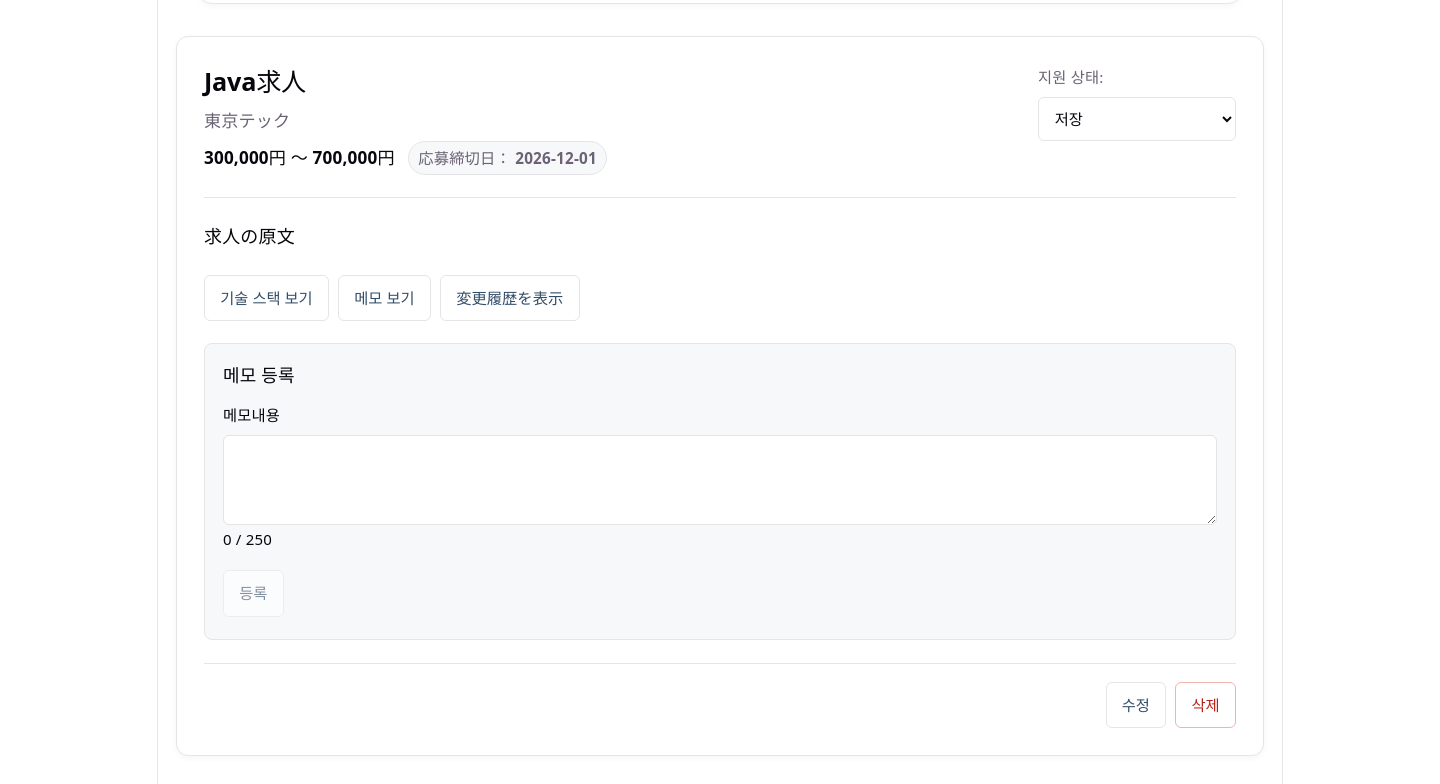
更新完了後の一覧再取得 › 削除待機中に検索を変えても完了後の一覧を元の条件へ戻さない
(page scrolled)
Expected: the heading "Java求人" is shown, [204,64,306,98]
Click the button "삭제" at (1206, 705), box [1175,682,1236,728]
(page scrolled)
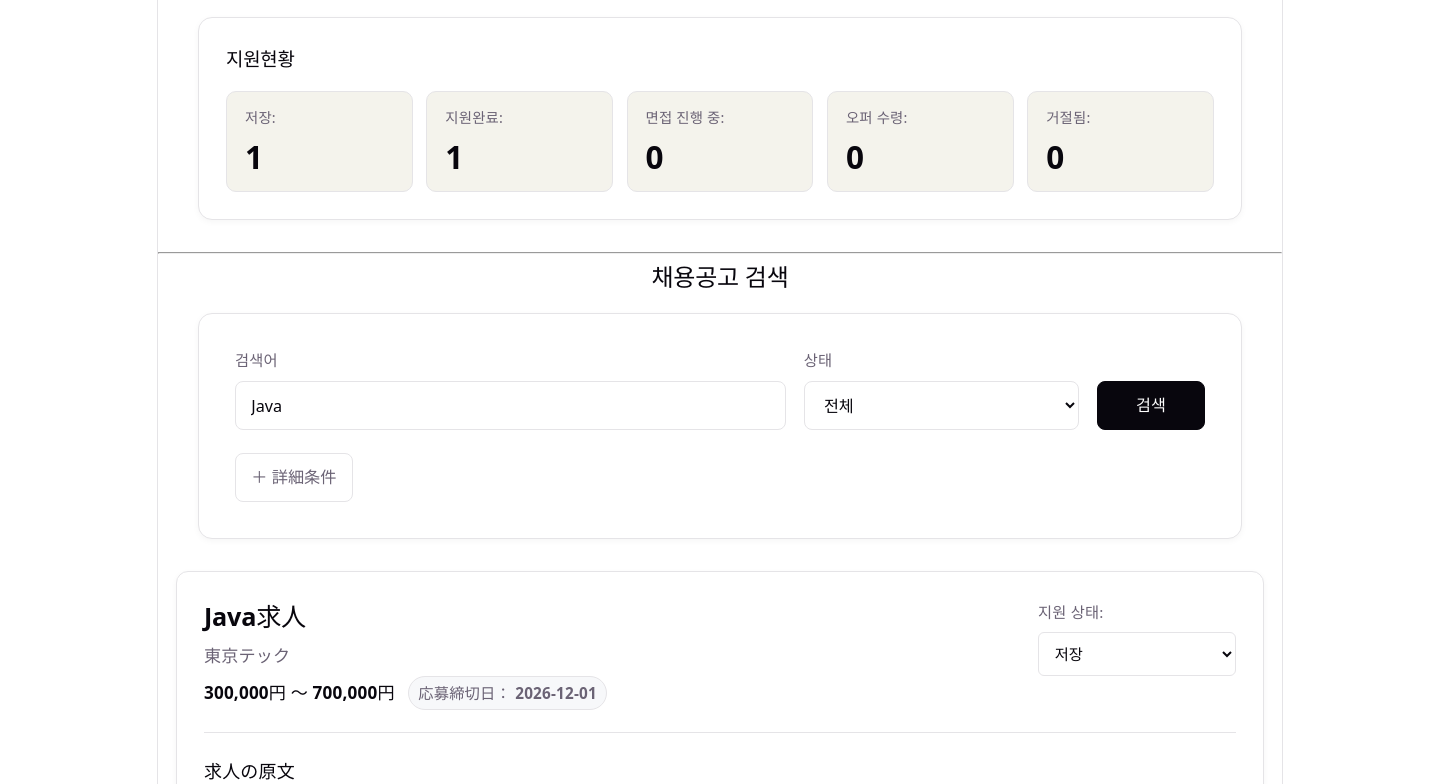
Replace the text in the field labelled "검색어" with "AWS" at (510, 406), box [235,381,786,430]
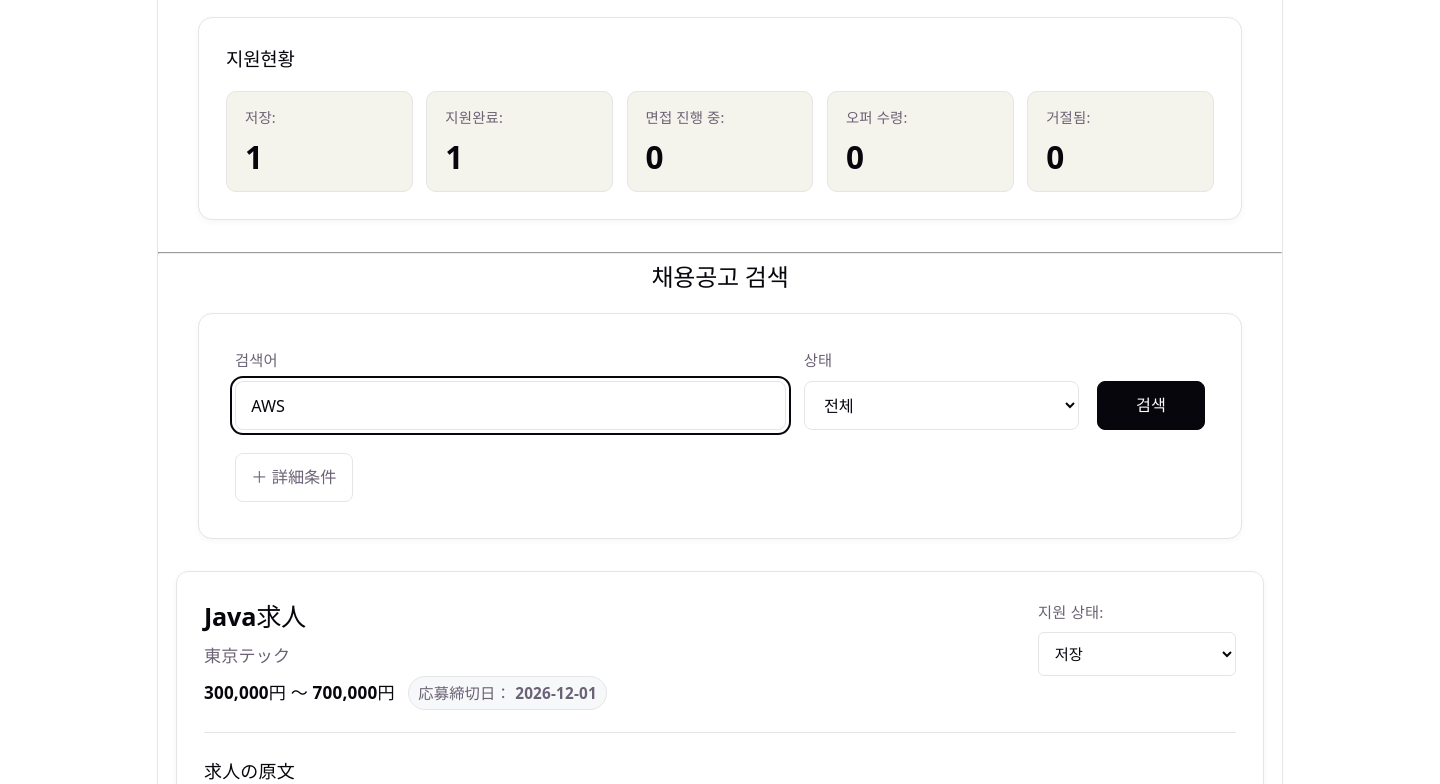
Click the button "검색" at (1151, 406), box [1097,381,1205,430]
(page scrolled)
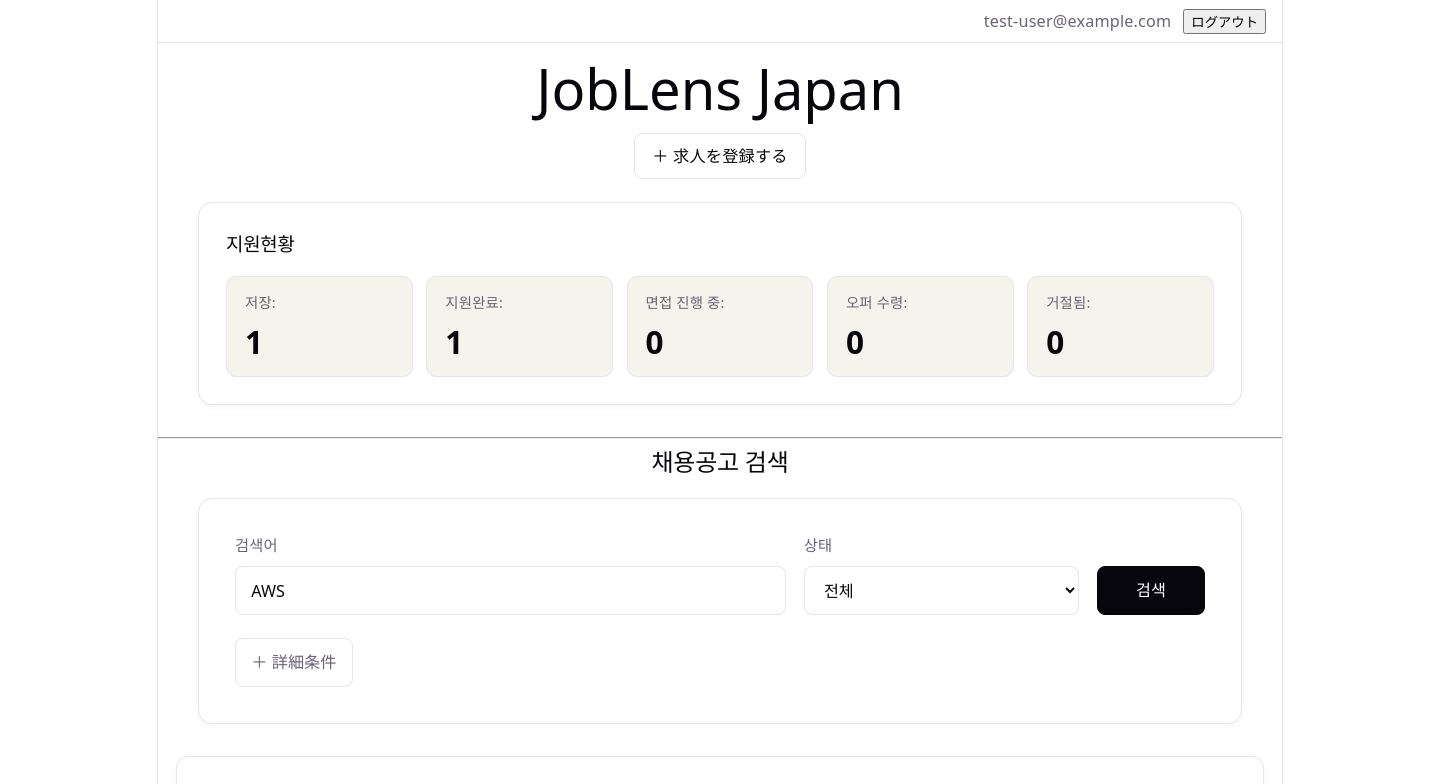
Now the heading "Java求人" is gone
